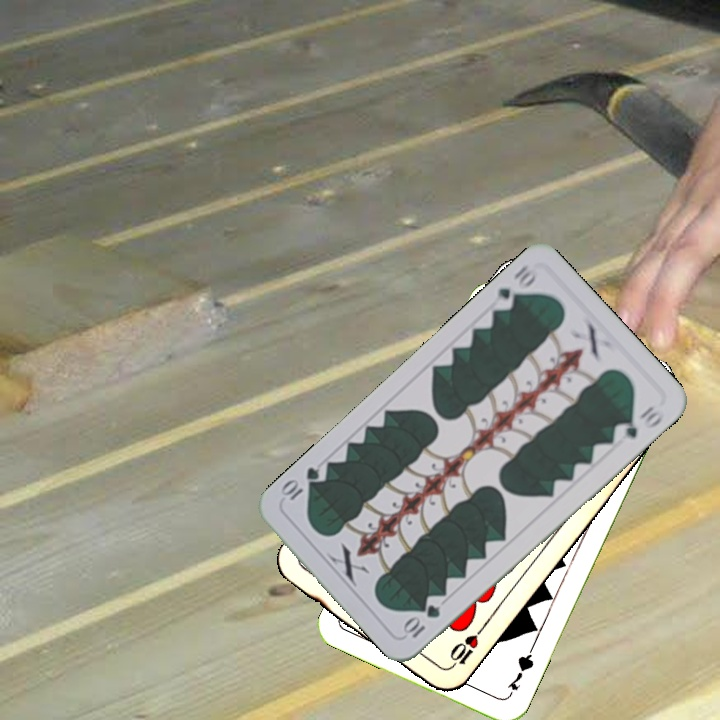G10: (488, 260, 541, 314), (399, 600, 443, 641)
G7: (503, 645, 537, 700)
H10: (443, 623, 487, 673)
